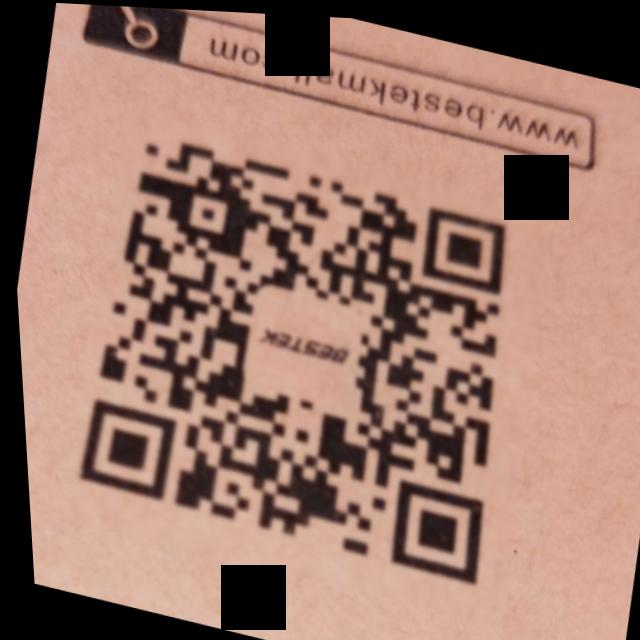QR_CODE: (42, 104, 572, 623)
